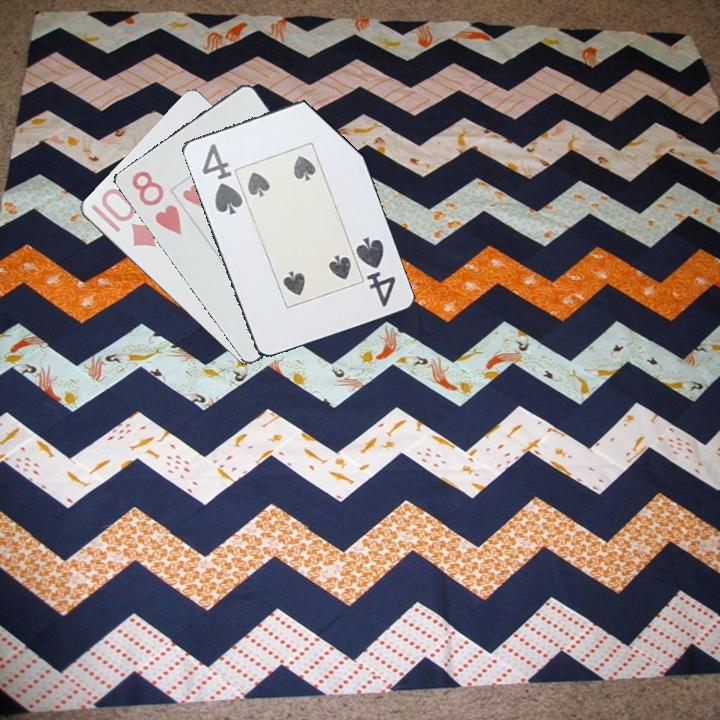4s: (198, 139, 245, 218), (352, 231, 398, 310)
8h: (128, 167, 186, 238)
Td: (87, 185, 159, 250)
